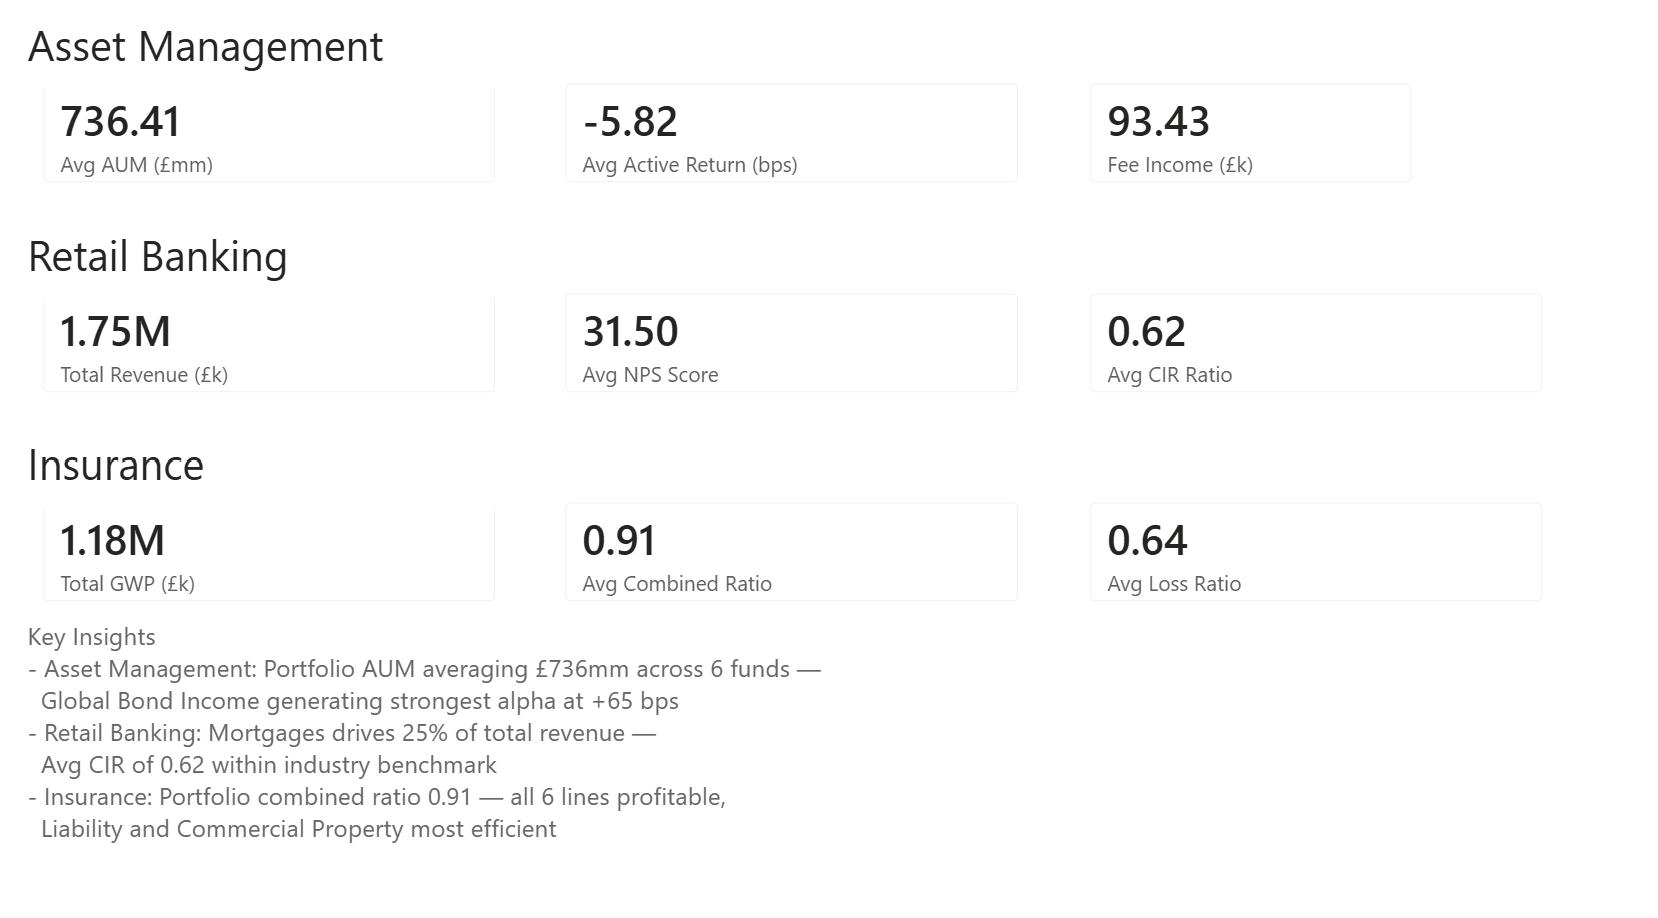

Layout of this report page (visuals, bound fields, positions):
{"tool":"powerbi","page":{"name":"Group Summary","canvas":[1280,720],"ordinal":3},"visuals":[{"type":"cardVisual","fields":{"Data":["Avg(am_fund_performance.aum_gbp_mm)"]},"box":[20,60,380,110],"z":0},{"type":"cardVisual","fields":{"Data":["Avg(am_fund_performance.active_return_bps)"]},"box":[420,60,380,110],"z":1},{"type":"cardVisual","fields":{"Data":["Sum(am_fund_performance.mgmt_fee_income_gbp_k)"]},"box":[820,60,280,110],"z":2},{"type":"cardVisual","fields":{"Data":["Sum(rb_product_revenue.revenue_gbp_k)"]},"box":[20,220,380,110],"z":3},{"type":"cardVisual","fields":{"Data":["Avg(rb_product_revenue.nps_score)"]},"box":[420,220,380,110],"z":4},{"type":"cardVisual","fields":{"Data":["Avg(rb_product_revenue.cost_income_ratio)"]},"box":[820,220,380,110],"z":5},{"type":"cardVisual","fields":{"Data":["Sum(ins_claims_premiums.gwp_gbp_k)"]},"box":[20,380,380,110],"z":6},{"type":"cardVisual","fields":{"Data":["Avg(ins_claims_premiums.combined_ratio)"]},"box":[420,380,380,110],"z":7},{"type":"cardVisual","fields":{"Data":["Avg(ins_claims_premiums.loss_ratio)"]},"box":[820,380,380,110],"z":8},{"type":"textbox","box":[20,20,380,60],"z":9},{"type":"textbox","box":[20,180,380,60],"z":10},{"type":"textbox","box":[20,340,380,60],"z":11},{"type":"textbox","box":[20,480,1150,240],"z":12}]}

Visuals, with their boxes in screenshot pixels (x1, y1, x2, y2), scaled from the page's 1280x720 canvas onto the 1658x918 screenshot:
cardVisual - Avg(am_fund_performance.aum_gbp_mm): select_region(26, 76, 518, 217)
cardVisual - Avg(am_fund_performance.active_return_bps): select_region(544, 76, 1036, 217)
cardVisual - Sum(am_fund_performance.mgmt_fee_income_gbp_k): select_region(1062, 76, 1425, 217)
cardVisual - Sum(rb_product_revenue.revenue_gbp_k): select_region(26, 280, 518, 421)
cardVisual - Avg(rb_product_revenue.nps_score): select_region(544, 280, 1036, 421)
cardVisual - Avg(rb_product_revenue.cost_income_ratio): select_region(1062, 280, 1554, 421)
cardVisual - Sum(ins_claims_premiums.gwp_gbp_k): select_region(26, 484, 518, 625)
cardVisual - Avg(ins_claims_premiums.combined_ratio): select_region(544, 484, 1036, 625)
cardVisual - Avg(ins_claims_premiums.loss_ratio): select_region(1062, 484, 1554, 625)
textbox: select_region(26, 26, 518, 102)
textbox: select_region(26, 229, 518, 306)
textbox: select_region(26, 433, 518, 510)
textbox: select_region(26, 612, 1516, 917)
